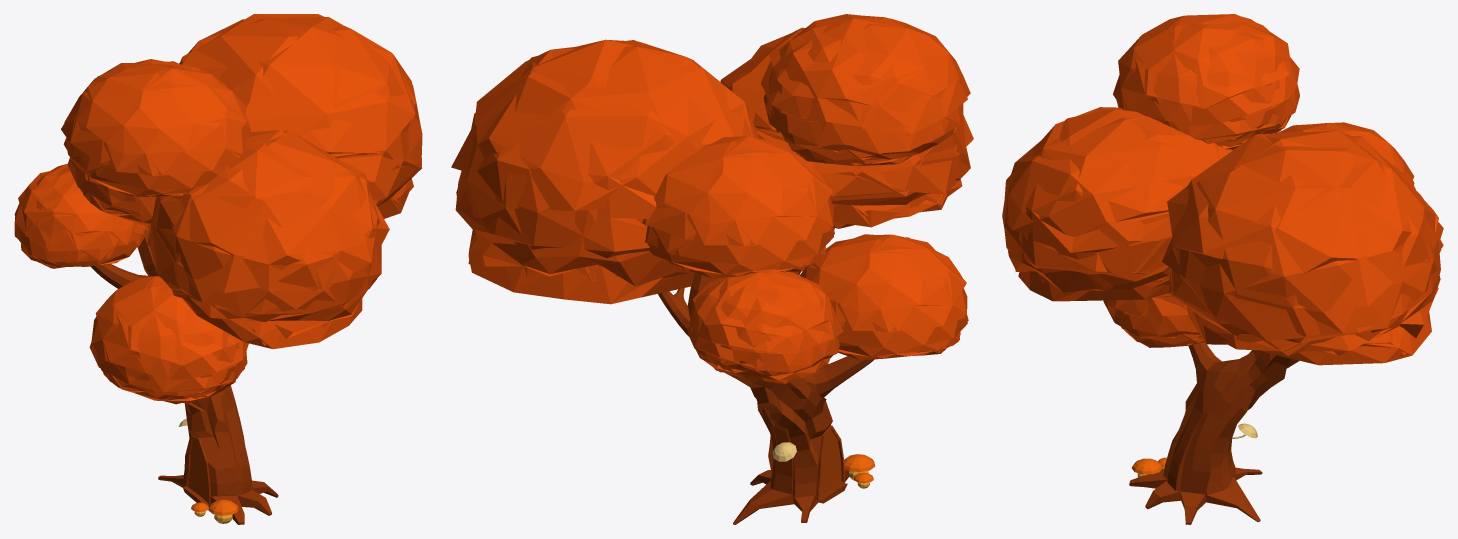
Rendered from MapleTreeHouse.fbx.
3 views of the same model, side by side, from view 1: azimuth 30°, elevation 25°; view 2: azimuth 150°, elevation 25°; view 3: azimuth 270°, elevation 25° (orthographic). The views are drawn at different scales.
Visible parts, largest first — view 1: Icosphere.003, Cube.001, Cylinder.027; view 2: Icosphere.003, Cube.001; view 3: Icosphere.003, Cube.001.
Part boxes in pixels (<box>): Icosphere.003: <box>14,14,422,404</box>; Cube.001: <box>90,225,278,524</box>; Cylinder.027: <box>208,499,238,523</box>; Icosphere.003: <box>451,14,973,384</box>; Cube.001: <box>658,153,874,524</box>; Icosphere.003: <box>1002,14,1443,365</box>; Cube.001: <box>1129,148,1299,524</box>.
Size of the model in its own units: 23371 by 26751 by 23539.
